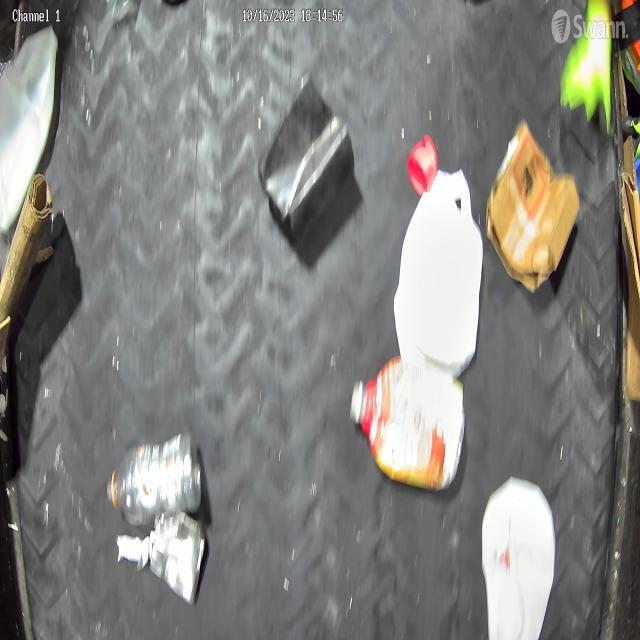can: (150, 514, 207, 606)
milk_jug: (392, 170, 484, 377), (481, 476, 557, 640)
plastic_bottle: (106, 431, 202, 526)
